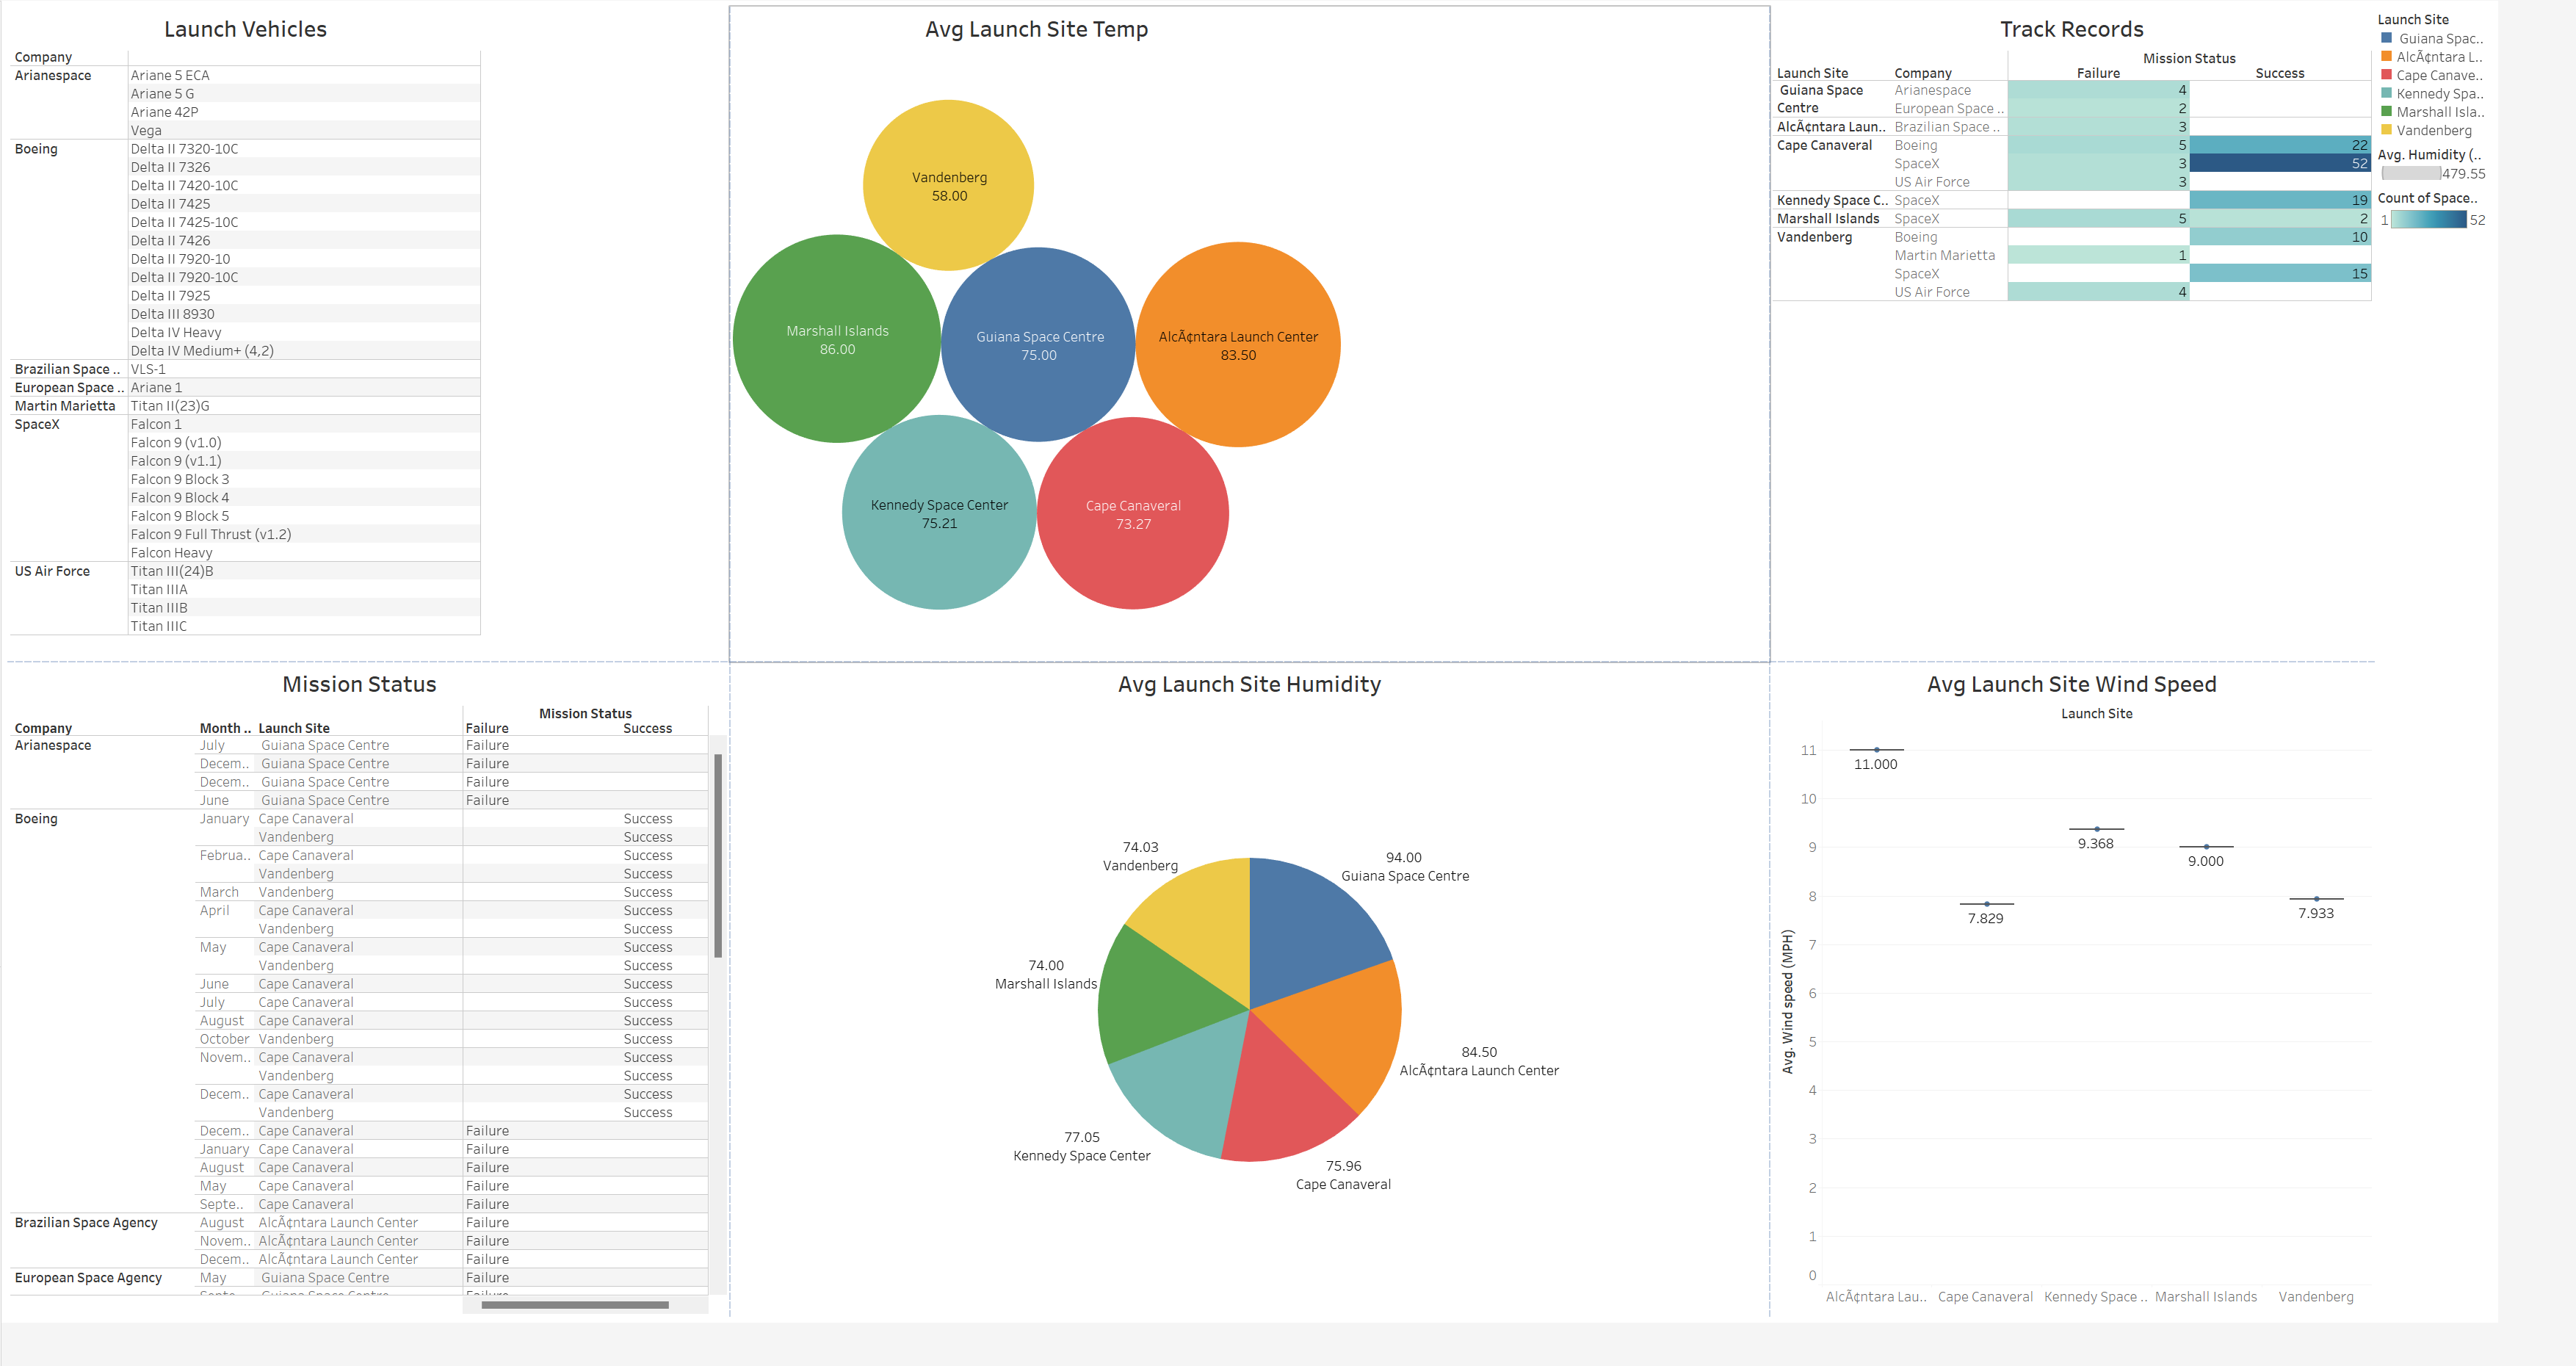

This screenshot's page, from the dashboard's own definition file:
{"tool":"tableau","page":{"name":"Space Missions Dashboard","canvas":[3400,1800],"ordinal":0},"visuals":[{"type":"worksheet","title":"Launch Vehicles","mark":"Automatic","rows":["Company","Vehicle Type"],"box":[8,8,984,892]},{"type":"worksheet","title":"Avg Launch Site Temp","mark":"Circle","box":[992,8,1416,892]},{"type":"worksheet","title":"Track Records","mark":"Square","rows":["Launch Site","Company"],"cols":["Mission Status"],"box":[2408,8,824,892]},{"type":"legend","title":"Avg Launch Site Temp","param":"[federated.0d10l2m06u7s90169o0ce0sv8i2t].[none:Launch Site:nk]","box":[3232,8,160,184]},{"type":"legend","title":"Avg Launch Site Humidity","param":"[federated.0d10l2m06u7s90169o0ce0sv8i2t].[avg:Humidity (%):qk]","box":[3232,192,160,59]},{"type":"legend","title":"Track Records","param":"[federated.0d10l2m06u7s90169o0ce0sv8i2t].[__tableau_internal_object_id__].[cnt:S","box":[3232,251,160,81]},{"type":"worksheet","title":"Mission Status","mark":"Automatic","rows":["Company","Failure Reason","Launch Date","Launch Site"],"cols":["Mission Status"],"box":[8,900,984,892]},{"type":"worksheet","title":"Avg Launch Site Humidity","mark":"Pie","box":[992,900,1416,892]},{"type":"worksheet","title":"Avg Launch Site Wind Speed","mark":"Circle","rows":["Wind speed (MPH)"],"cols":["Launch Site"],"box":[2408,900,824,892]}]}

Visuals, with their boxes in screenshot pixels (x1, y1, x2, y2), scaled from the page's 3400x1800 canvas onto the 2576x1366 screenshot:
"Launch Vehicles" worksheet: [6, 6, 752, 683]
"Avg Launch Site Temp" worksheet (Circle marks): [752, 6, 1824, 683]
"Track Records" worksheet (Square marks): [1824, 6, 2449, 683]
"Avg Launch Site Temp" legend: [2449, 6, 2570, 145]
"Avg Launch Site Humidity" legend: [2449, 145, 2570, 190]
"Track Records" legend: [2449, 190, 2570, 252]
"Mission Status" worksheet: [6, 683, 752, 1360]
"Avg Launch Site Humidity" worksheet (Pie marks): [752, 683, 1824, 1360]
"Avg Launch Site Wind Speed" worksheet (Circle marks): [1824, 683, 2449, 1360]
